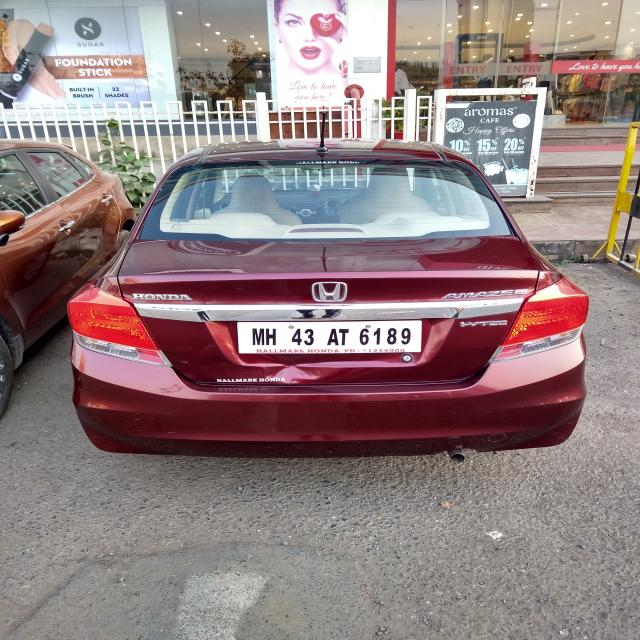Number-Plate: (236, 320, 422, 354)
